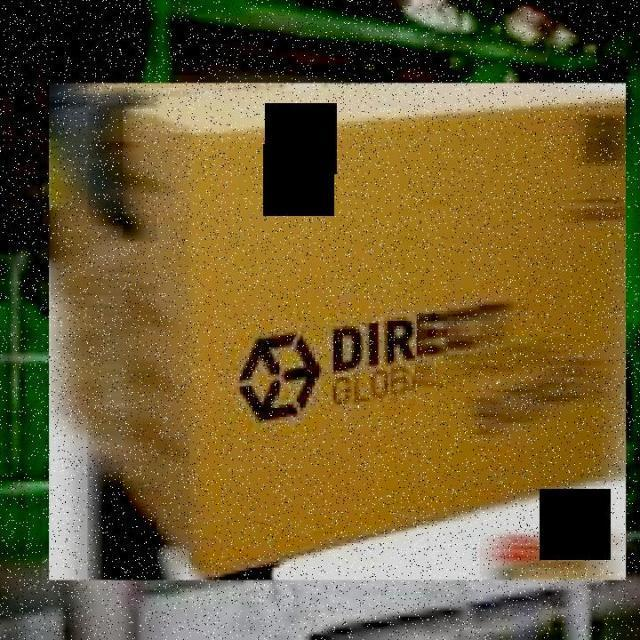box: (42, 76, 638, 590)
